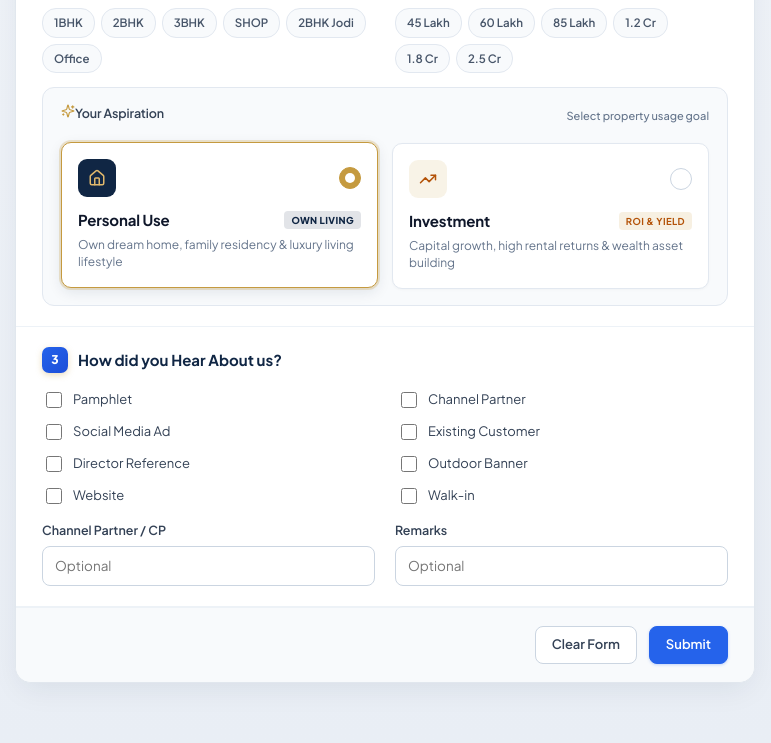
Park Solitaire Client Visit App › Client Visit Form & 10-Digit Phone Validation › shows error when required fields are missing
(page scrolled)
Click the button "Submit": (688, 644) [649, 626, 728, 664]
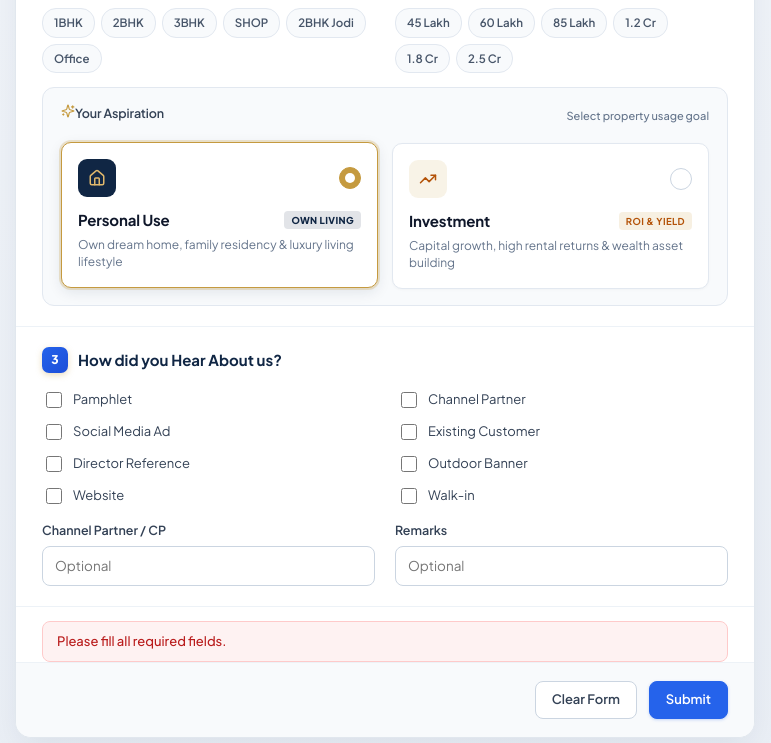
Expected: the text "Please fill all required fields." is shown, [42, 620, 728, 662]
